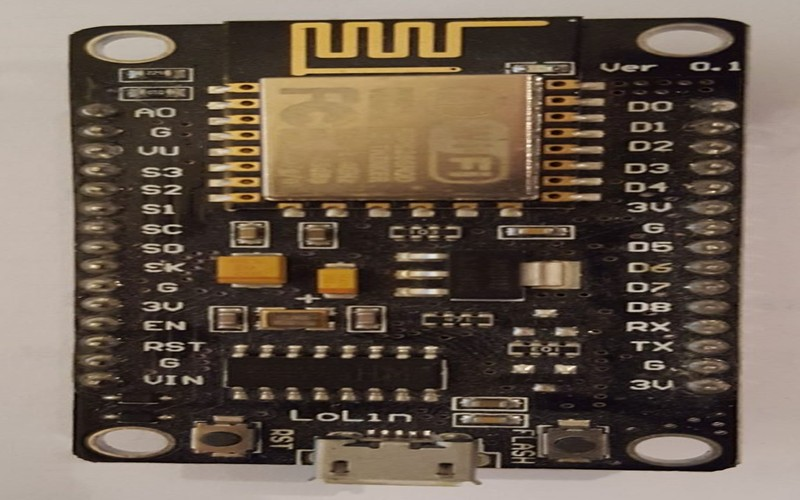IoT Sensor: (53, 12, 762, 484)
